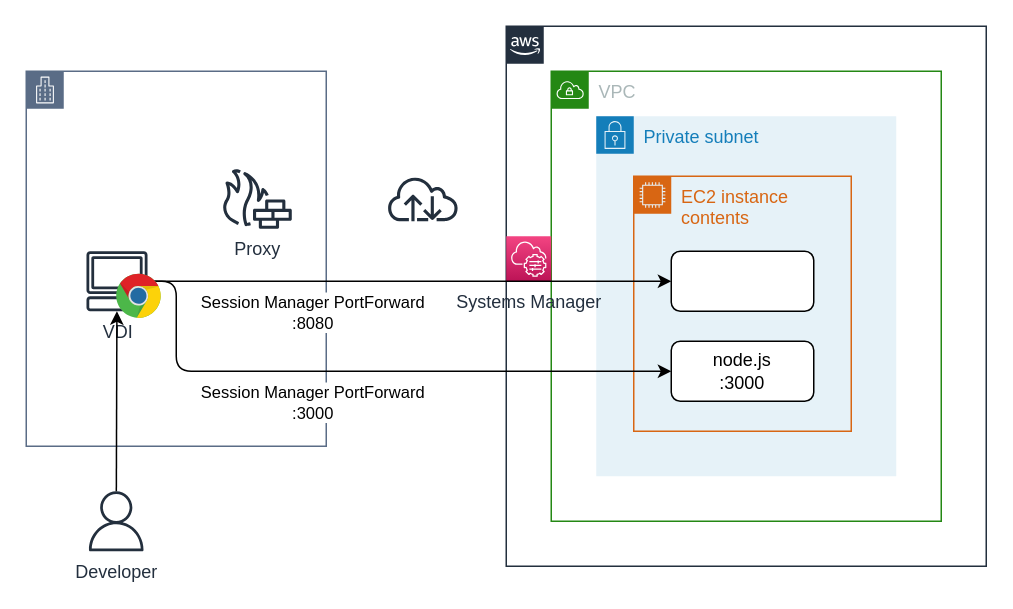
Image size: 1013x609. Some labels were removed from this diagram. The box of each missing label's shape, as (x1, y1, x2, y2) in pixels:
AWS Cloud: (505, 25, 986, 566)
code-server :8080: (670, 250, 814, 311)
Corporate data center: (25, 70, 326, 446)
Internet: (386, 176, 459, 220)
